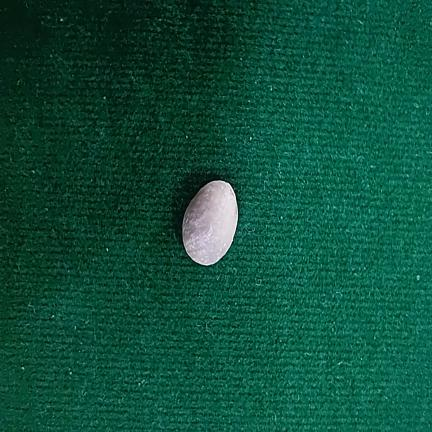husk: (182, 180, 238, 266)
